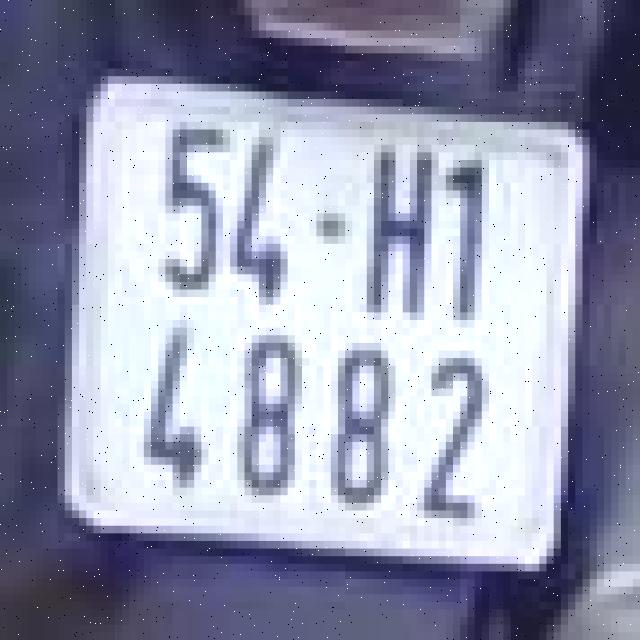1: (435, 152, 500, 343)
2: (410, 350, 496, 526)
4: (137, 320, 216, 495), (220, 130, 292, 304)
5: (151, 115, 230, 312)
8: (324, 335, 396, 518), (241, 320, 306, 510)
H: (352, 133, 439, 324)
